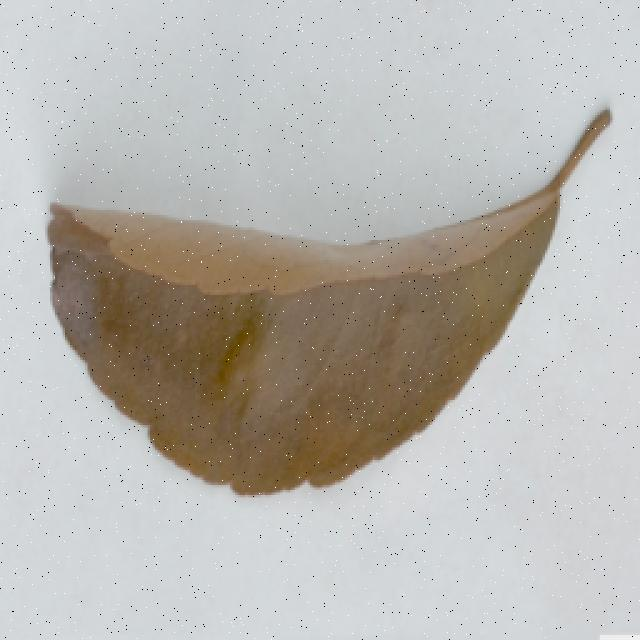healthy: (29, 94, 620, 537)
